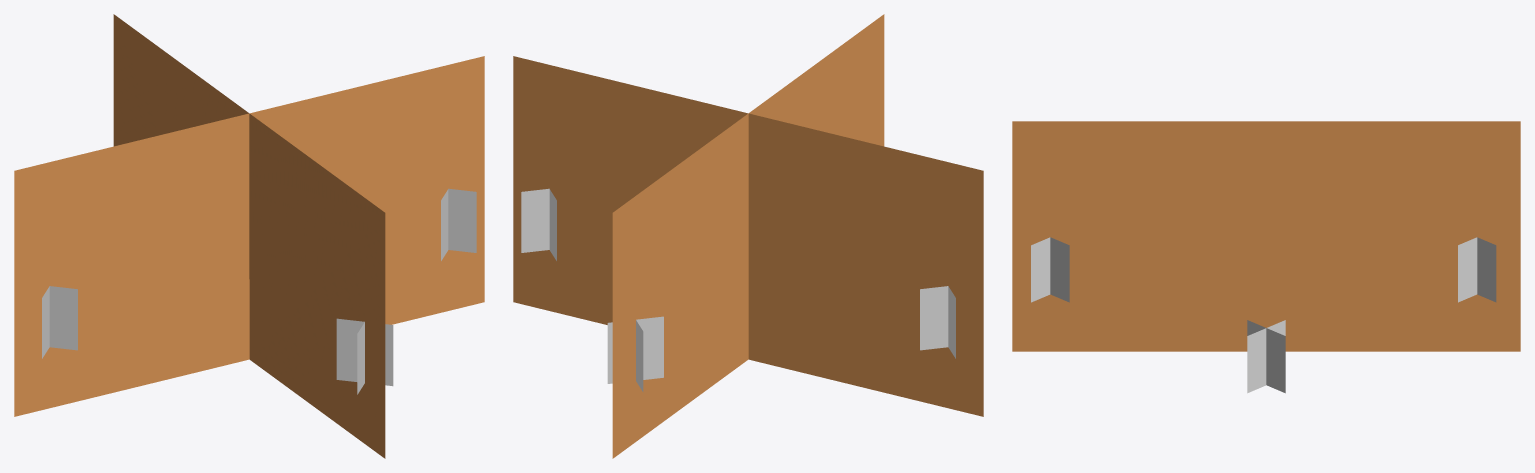
The model's file is Fence_BH_20201_06.fbx.
3 renders of one model, left to right at view 1: azimuth 30°, elevation 25°; view 2: azimuth 150°, elevation 25°; view 3: azimuth 270°, elevation 25°, orthographic. The views are drawn at different scales.
Visible parts, largest first — view 1: Fence_BH_20201_06; view 2: Fence_BH_20201_06; view 3: Fence_BH_20201_06.
Part boxes in pixels (x1,y1,x2,y2): Fence_BH_20201_06: [14, 14, 484, 458]; Fence_BH_20201_06: [513, 14, 983, 458]; Fence_BH_20201_06: [1012, 121, 1520, 393].
Bounding box in the file's own units: 100 × 50 × 100.
Materials: 1 (1 with a texture image).
